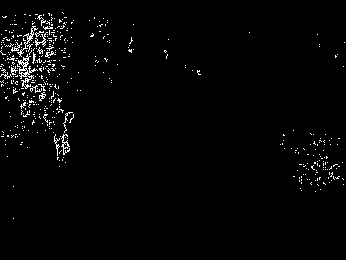person: (43, 96, 72, 162)
